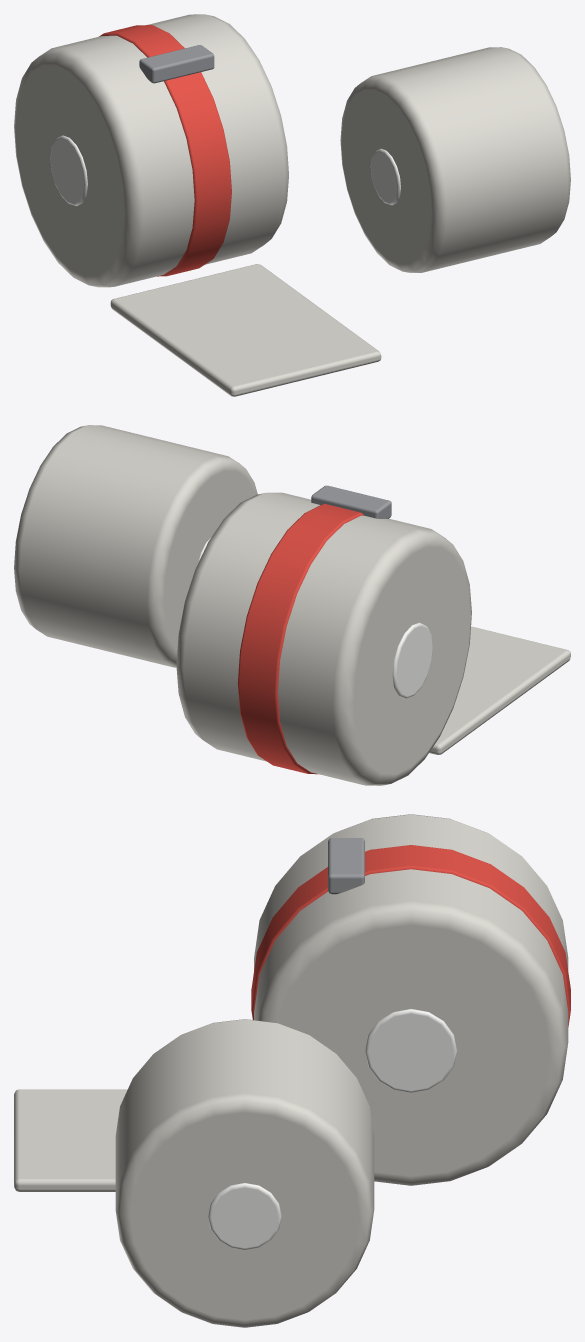
Rendered from bandage.glb.
3 renders of one model, top to bottom at view 1: azimuth 30°, elevation 25°; view 2: azimuth 150°, elevation 25°; view 3: azimuth 270°, elevation 25°, orthographic. The views are drawn at different scales.
Visible parts, largest first — view 1: b_roll1, b_roll2, b_tail, b_stripe, b_core1, b_clip, b_core2; view 2: b_roll1, b_roll2, b_stripe, b_tail, b_core1, b_clip; view 3: b_roll1, b_roll2, b_tail, b_stripe, b_core1, b_core2, b_clip.
Boxes of the visible parts, <box> form: b_roll1: <box>14,14,288,287</box>; b_roll2: <box>340,47,570,272</box>; b_tail: <box>110,264,381,396</box>; b_stripe: <box>99,25,231,276</box>; b_core1: <box>50,135,87,206</box>; b_clip: <box>139,45,214,83</box>; b_core2: <box>370,148,400,205</box>; b_roll1: <box>176,492,471,785</box>; b_roll2: <box>14,425,257,667</box>; b_stripe: <box>237,504,363,774</box>; b_tail: <box>429,626,570,754</box>; b_core1: <box>392,622,432,698</box>; b_clip: <box>311,485,391,518</box>; b_roll1: <box>254,814,568,1185</box>; b_roll2: <box>115,1019,374,1327</box>; b_tail: <box>14,1089,127,1191</box>; b_stripe: <box>251,845,570,1026</box>; b_core1: <box>365,1009,457,1092</box>; b_core2: <box>208,1183,281,1249</box>; b_clip: <box>328,838,364,894</box>.
Size of the model in its own units: 0.314 by 0.1745 by 0.3015.
